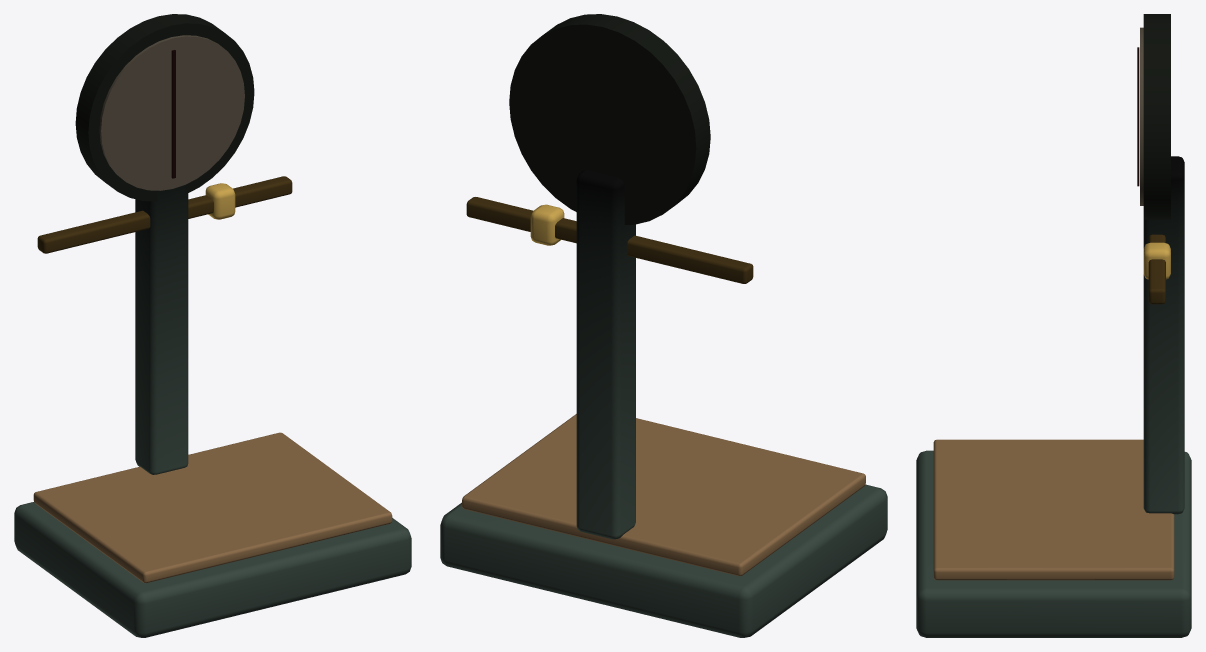
File: scale.glb
The picture shows the model from 3 angles, left to right: view 1: azimuth 30°, elevation 25°; view 2: azimuth 150°, elevation 25°; view 3: azimuth 270°, elevation 25°; orthographic projection. The views are drawn at different scales.
Visible parts, largest first — view 1: scale.metal.0, scale.plank.1, scale.paint.2, scale.brass.3, anim-poise, anim-needle; view 2: scale.metal.0, scale.plank.1, scale.brass.3, anim-poise; view 3: scale.metal.0, scale.plank.1, scale.brass.3, scale.paint.2, anim-poise, anim-needle.
Part boxes in pixels (left/top/right/bottom): scale.metal.0: left=14, top=14, right=411, bottom=637; scale.plank.1: left=33, top=432, right=392, bottom=583; scale.paint.2: left=99, top=35, right=244, bottom=190; scale.brass.3: left=37, top=176, right=292, bottom=253; anim-poise: left=205, top=183, right=235, bottom=219; anim-needle: left=171, top=50, right=175, bottom=178; scale.metal.0: left=440, top=14, right=887, bottom=637; scale.plank.1: left=462, top=414, right=865, bottom=576; scale.brass.3: left=466, top=197, right=753, bottom=283; anim-poise: left=530, top=204, right=564, bottom=245; scale.metal.0: left=916, top=14, right=1191, bottom=637; scale.plank.1: left=933, top=439, right=1174, bottom=580; scale.brass.3: left=1148, top=234, right=1165, bottom=304; scale.paint.2: left=1140, top=27, right=1143, bottom=205; anim-poise: left=1143, top=242, right=1170, bottom=279; anim-needle: left=1137, top=47, right=1139, bottom=186.
Size of the model in its own units: 1 by 1.75 by 0.8.
